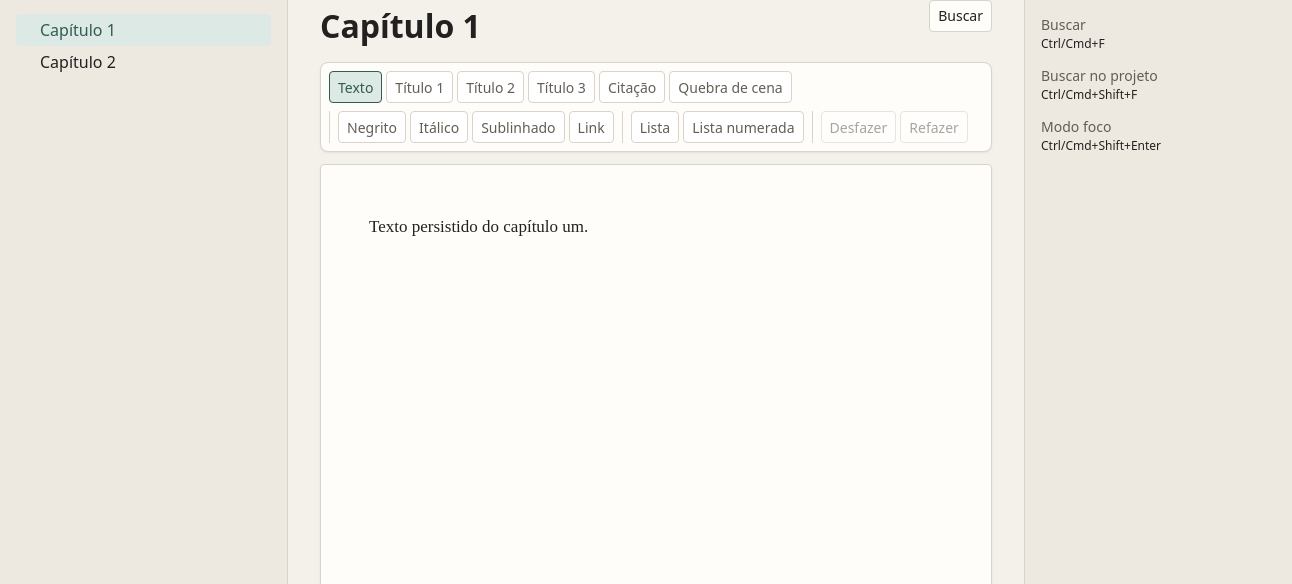
Test case: WritingWorkspace › does not leave the document when its flush fails and supports retry
The width and height of the screenshot is (1292, 584).
Expected: the field named "Conteúdo de Capítulo 1" is shown, x1=369 y1=217 x2=588 y2=236
Click the button "Quebra de cena" at (730, 87), box x1=669 y1=71 x2=792 y2=103
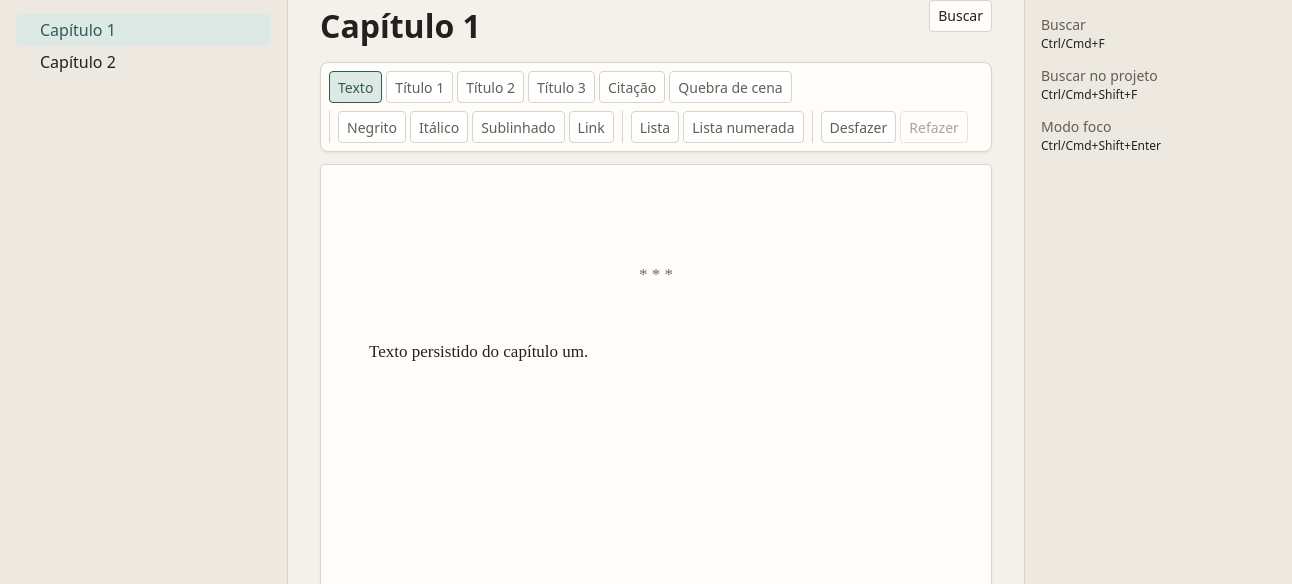
Click the list item "Capítulo 2" at (78, 62), box x1=40 y1=51 x2=116 y2=73
(page scrolled)
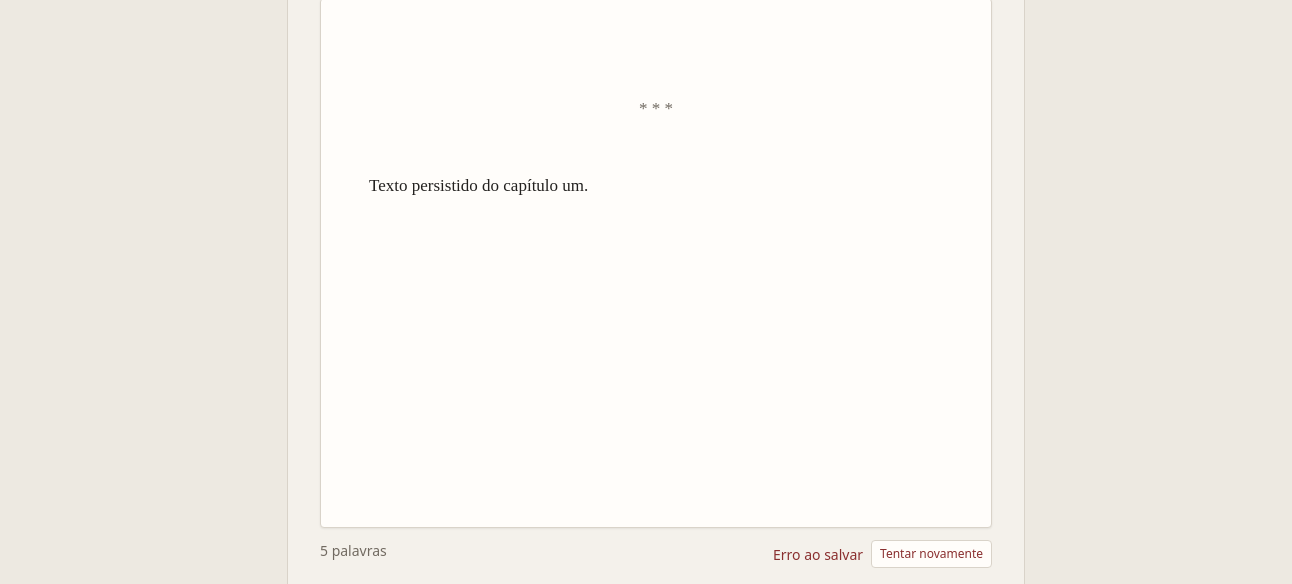
Expected: the field named "Conteúdo de Capítulo 1" is shown, x1=369 y1=95 x2=696 y2=195
Now the text "Erro ao salvar" is shown, box x1=773 y1=544 x2=863 y2=564
Click the button "Tentar novamente" at (932, 554), box x1=871 y1=540 x2=992 y2=568
(page scrolled)
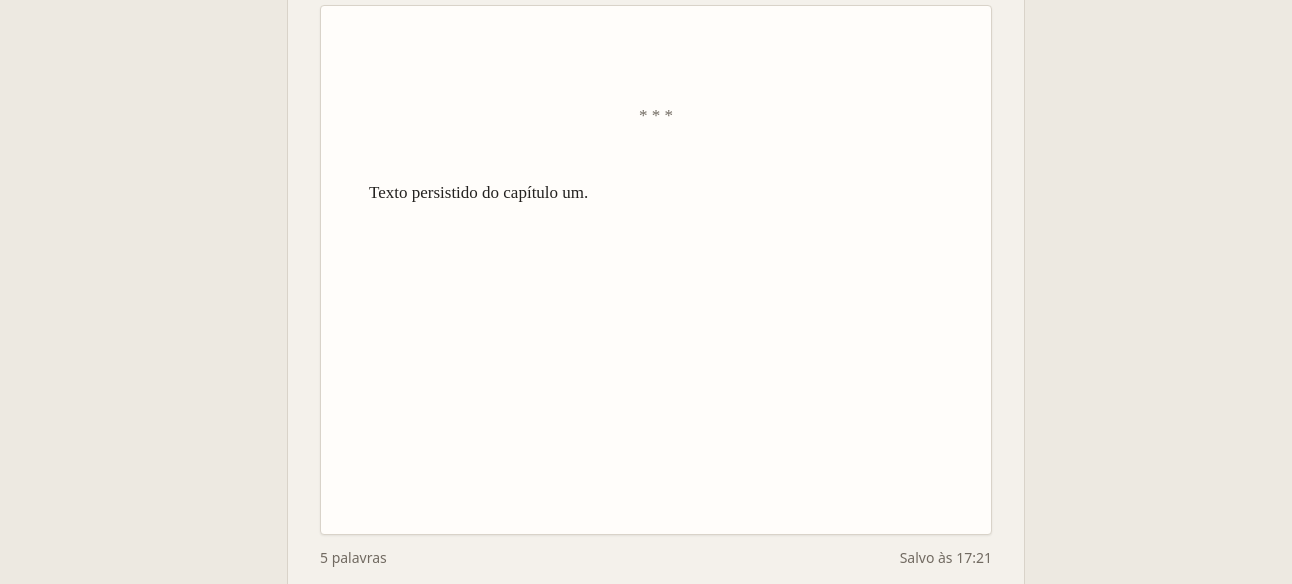
Now the text "Salvo às 17:21" is shown, box x1=900 y1=547 x2=992 y2=568
